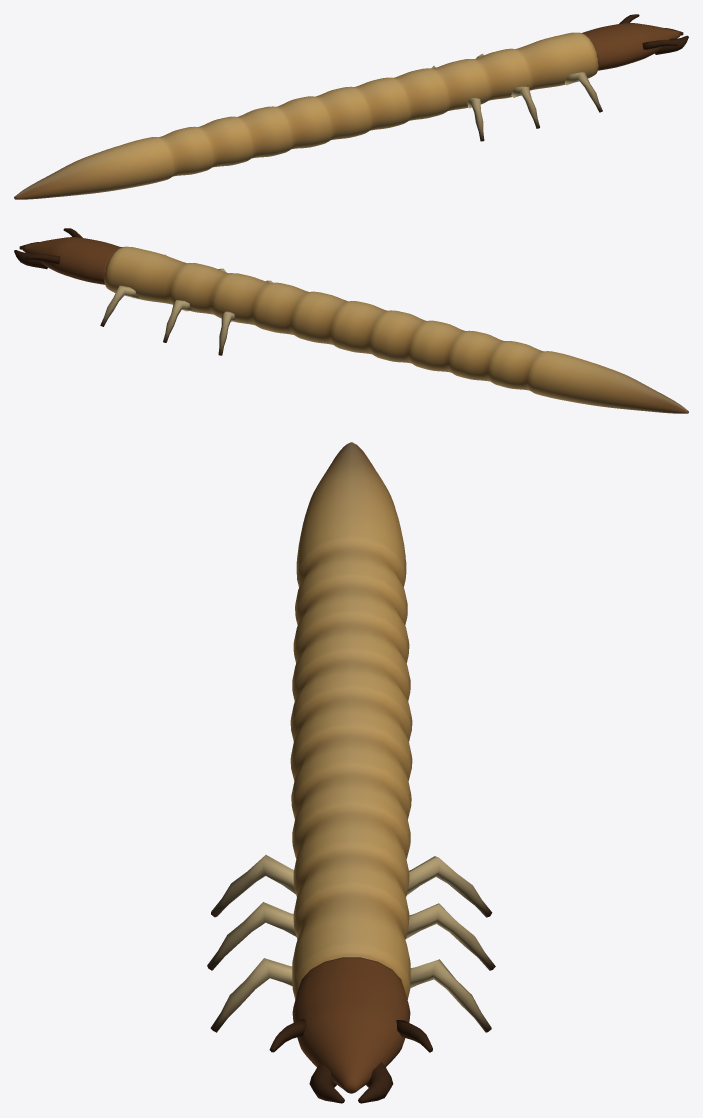
The model's file is beetle-larva.glb.
The picture shows the model from 3 angles, top to bottom: view 1: azimuth 30°, elevation 25°; view 2: azimuth 150°, elevation 25°; view 3: azimuth 270°, elevation 25°; orthographic projection. The views are drawn at different scales.
Parts seen in each view (by area): view 1: beetle-larva; view 2: beetle-larva; view 3: beetle-larva.
Boxes of the visible parts, x1,y1,x2,y2 form: beetle-larva: (14, 14, 688, 199); beetle-larva: (14, 228, 688, 413); beetle-larva: (207, 442, 495, 1103).
Bounding box in the file's own units: 1.06 × 0.0765 × 0.1968.
